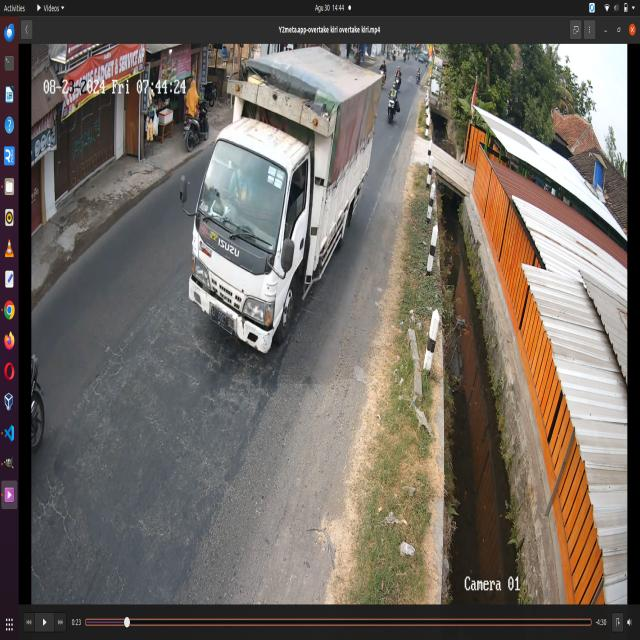person_with_seatbelt: (220, 142, 257, 214)
